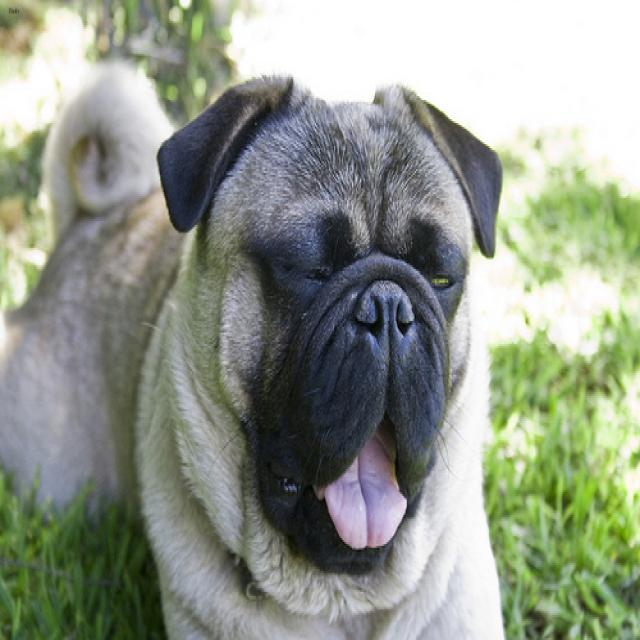dog-pug: (1, 50, 521, 636)
